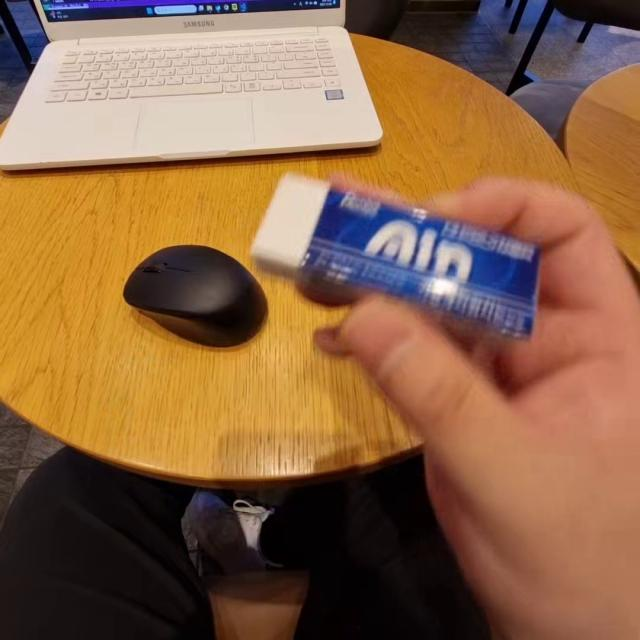eraser: (242, 159, 542, 341)
grab_eraser: (246, 133, 640, 592)
mouse: (104, 240, 273, 366)
